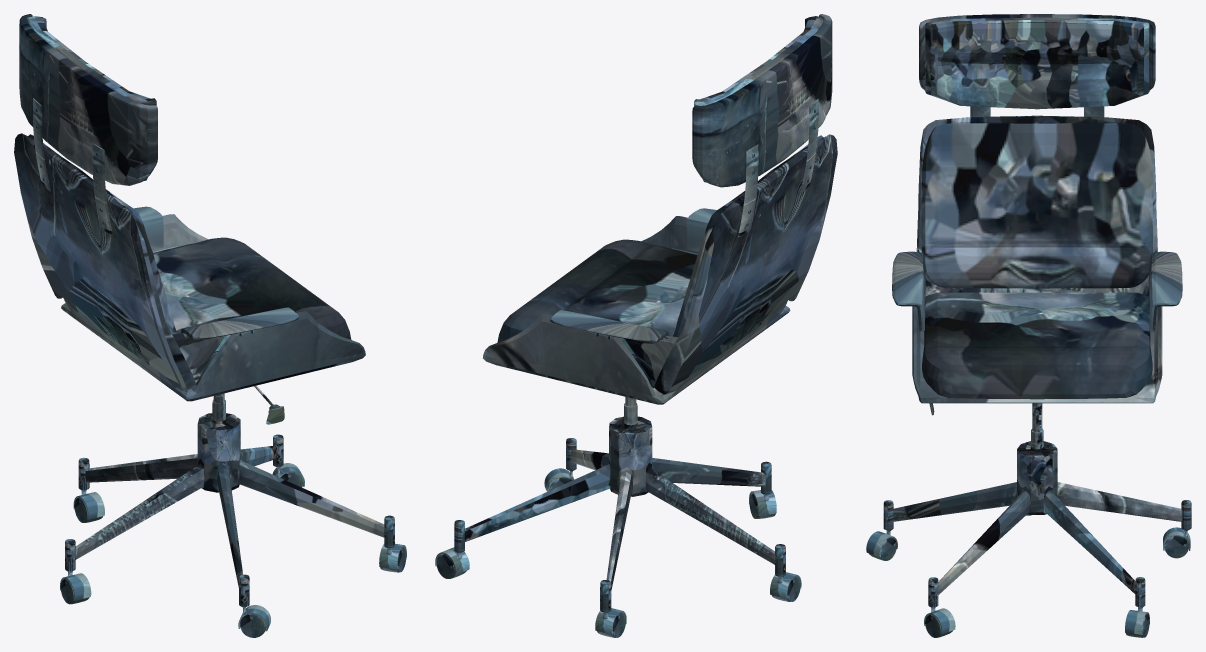
Rendered from futuristic_room_20.obj.
3 renders of one model, left to right at view 1: azimuth 30°, elevation 25°; view 2: azimuth 150°, elevation 25°; view 3: azimuth 270°, elevation 25°, orthographic. The views are drawn at different scales.
Size of the model in its own units: 0.7074 by 1.22 by 0.7242.
